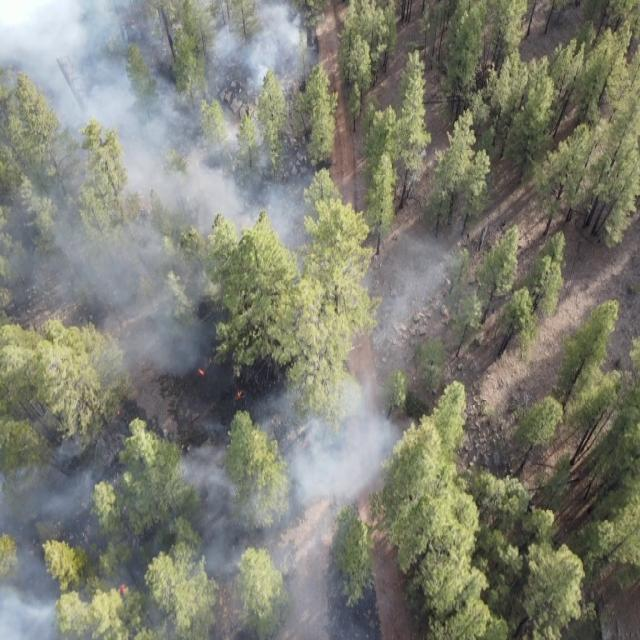fire: (115, 579, 128, 596), (196, 364, 207, 380), (234, 387, 246, 401), (116, 408, 122, 416)
smoke: (0, 267, 395, 640), (0, 0, 309, 266), (329, 228, 457, 348)
